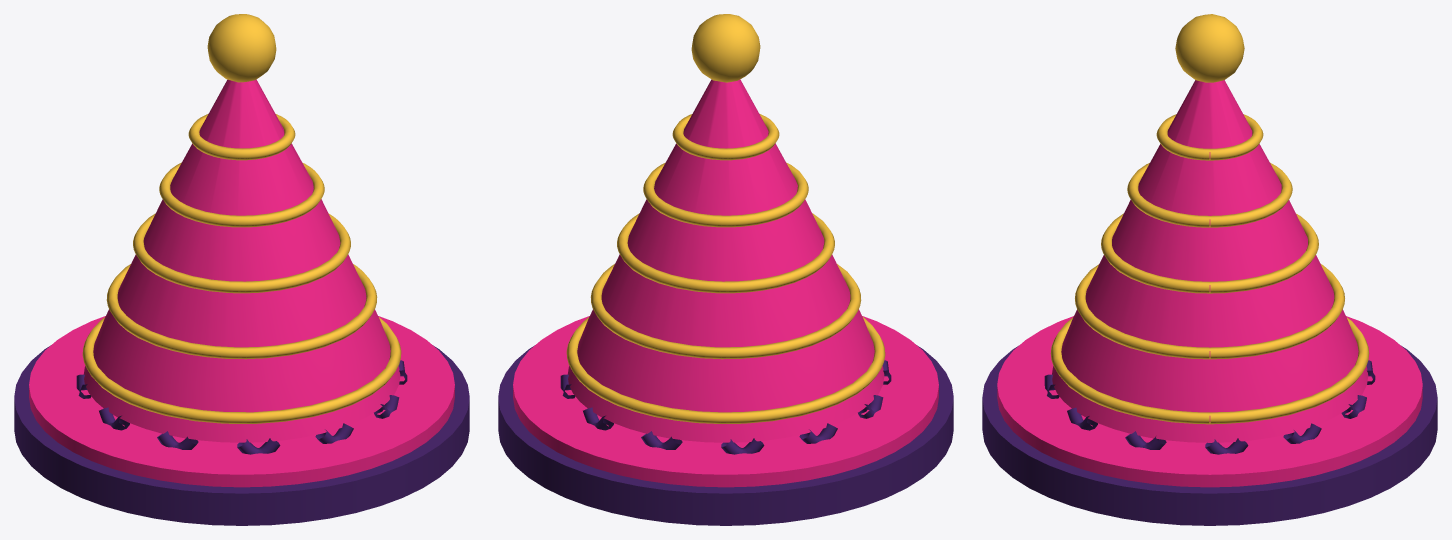
Rendered from desk.hat.party.glb.
The picture shows the model from 3 angles, left to right: view 1: azimuth 30°, elevation 25°; view 2: azimuth 150°, elevation 25°; view 3: azimuth 270°, elevation 25°; orthographic projection.
Parts seen in each view (by area): view 1: party_cone, stand_trim, stand_base, party_braid, party_braid.001, pom_pom, party_braid.002, party_braid.003, party_braid.004; view 2: party_cone, stand_trim, stand_base, party_braid, party_braid.001, pom_pom, party_braid.002, party_braid.003, party_braid.004; view 3: party_cone, stand_trim, stand_base, party_braid, party_braid.001, pom_pom, party_braid.002, party_braid.003, party_braid.004.
Part boxes in pixels (x1=…): party_cone: x1=83, y1=79, x2=400, y2=442; stand_trim: x1=29, y1=316, x2=454, y2=487; stand_base: x1=14, y1=345, x2=469, y2=525; party_braid: x1=82, y1=317, x2=401, y2=423; party_braid.001: x1=106, y1=264, x2=377, y2=359; pom_pom: x1=207, y1=14, x2=276, y2=82; party_braid.002: x1=133, y1=213, x2=350, y2=293; party_braid.003: x1=159, y1=162, x2=324, y2=227; party_braid.004: x1=188, y1=114, x2=295, y2=160; party_cone: x1=567, y1=79, x2=884, y2=442; stand_trim: x1=513, y1=316, x2=938, y2=487; stand_base: x1=498, y1=345, x2=953, y2=525; party_braid: x1=566, y1=316, x2=885, y2=423; party_braid.001: x1=590, y1=264, x2=861, y2=359; pom_pom: x1=691, y1=14, x2=760, y2=82; party_braid.002: x1=617, y1=213, x2=834, y2=293; party_braid.003: x1=643, y1=162, x2=808, y2=227; party_braid.004: x1=672, y1=114, x2=779, y2=160; party_cone: x1=1052, y1=80, x2=1368, y2=442; stand_trim: x1=997, y1=316, x2=1422, y2=487; stand_base: x1=982, y1=345, x2=1437, y2=525; party_braid: x1=1050, y1=317, x2=1369, y2=424; party_braid.001: x1=1075, y1=264, x2=1344, y2=359; pom_pom: x1=1175, y1=14, x2=1244, y2=82; party_braid.002: x1=1101, y1=213, x2=1318, y2=293; party_braid.003: x1=1127, y1=162, x2=1292, y2=227; party_braid.004: x1=1156, y1=114, x2=1263, y2=160.
Bounding box in the file's own units: 0.48 × 0.48 × 0.48.
